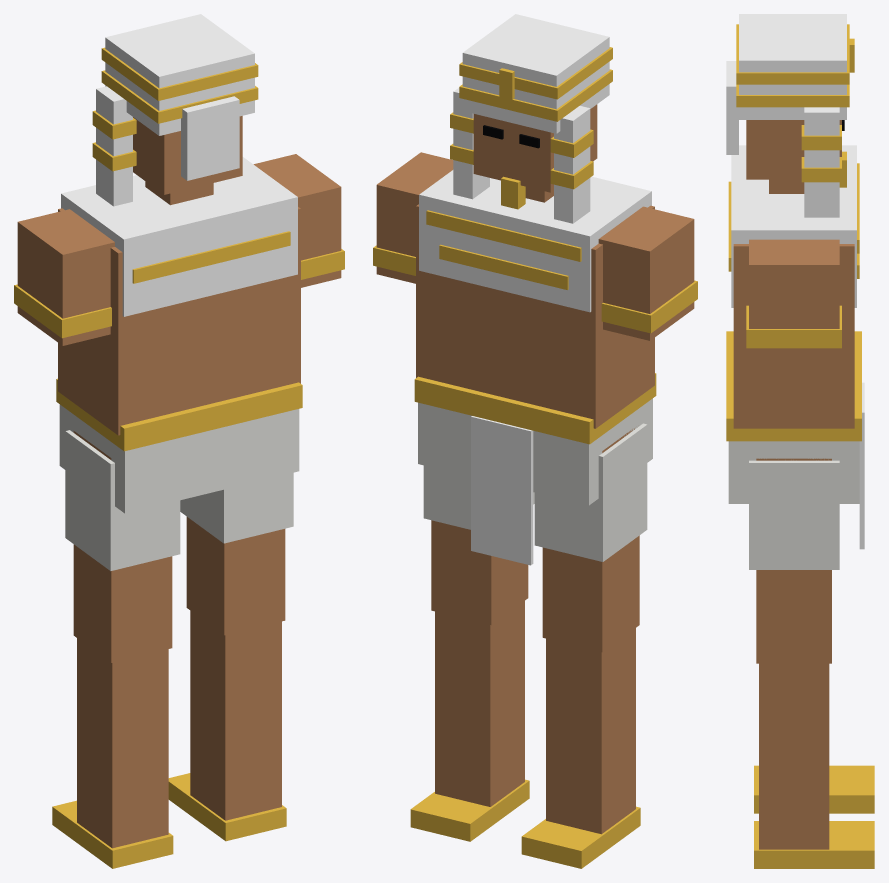
File: PHARAOH.gltf
3 views of the same model, side by side, from view 1: azimuth 30°, elevation 25°; view 2: azimuth 150°, elevation 25°; view 3: azimuth 270°, elevation 25° (orthographic).
Parts seen in each view (by area): view 1: PHARAOH; view 2: PHARAOH; view 3: PHARAOH.
Boxes of the visible parts, x1=… form: PHARAOH: x1=14, y1=14, x2=344, y2=868; PHARAOH: x1=373, y1=14, x2=697, y2=868; PHARAOH: x1=726, y1=14, x2=874, y2=868.
Size of the model in its own units: 0.65 by 1.73 by 0.295.
